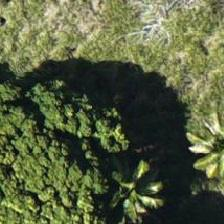Kelapa_Sawit: (89, 133, 179, 223), (165, 94, 223, 185)
